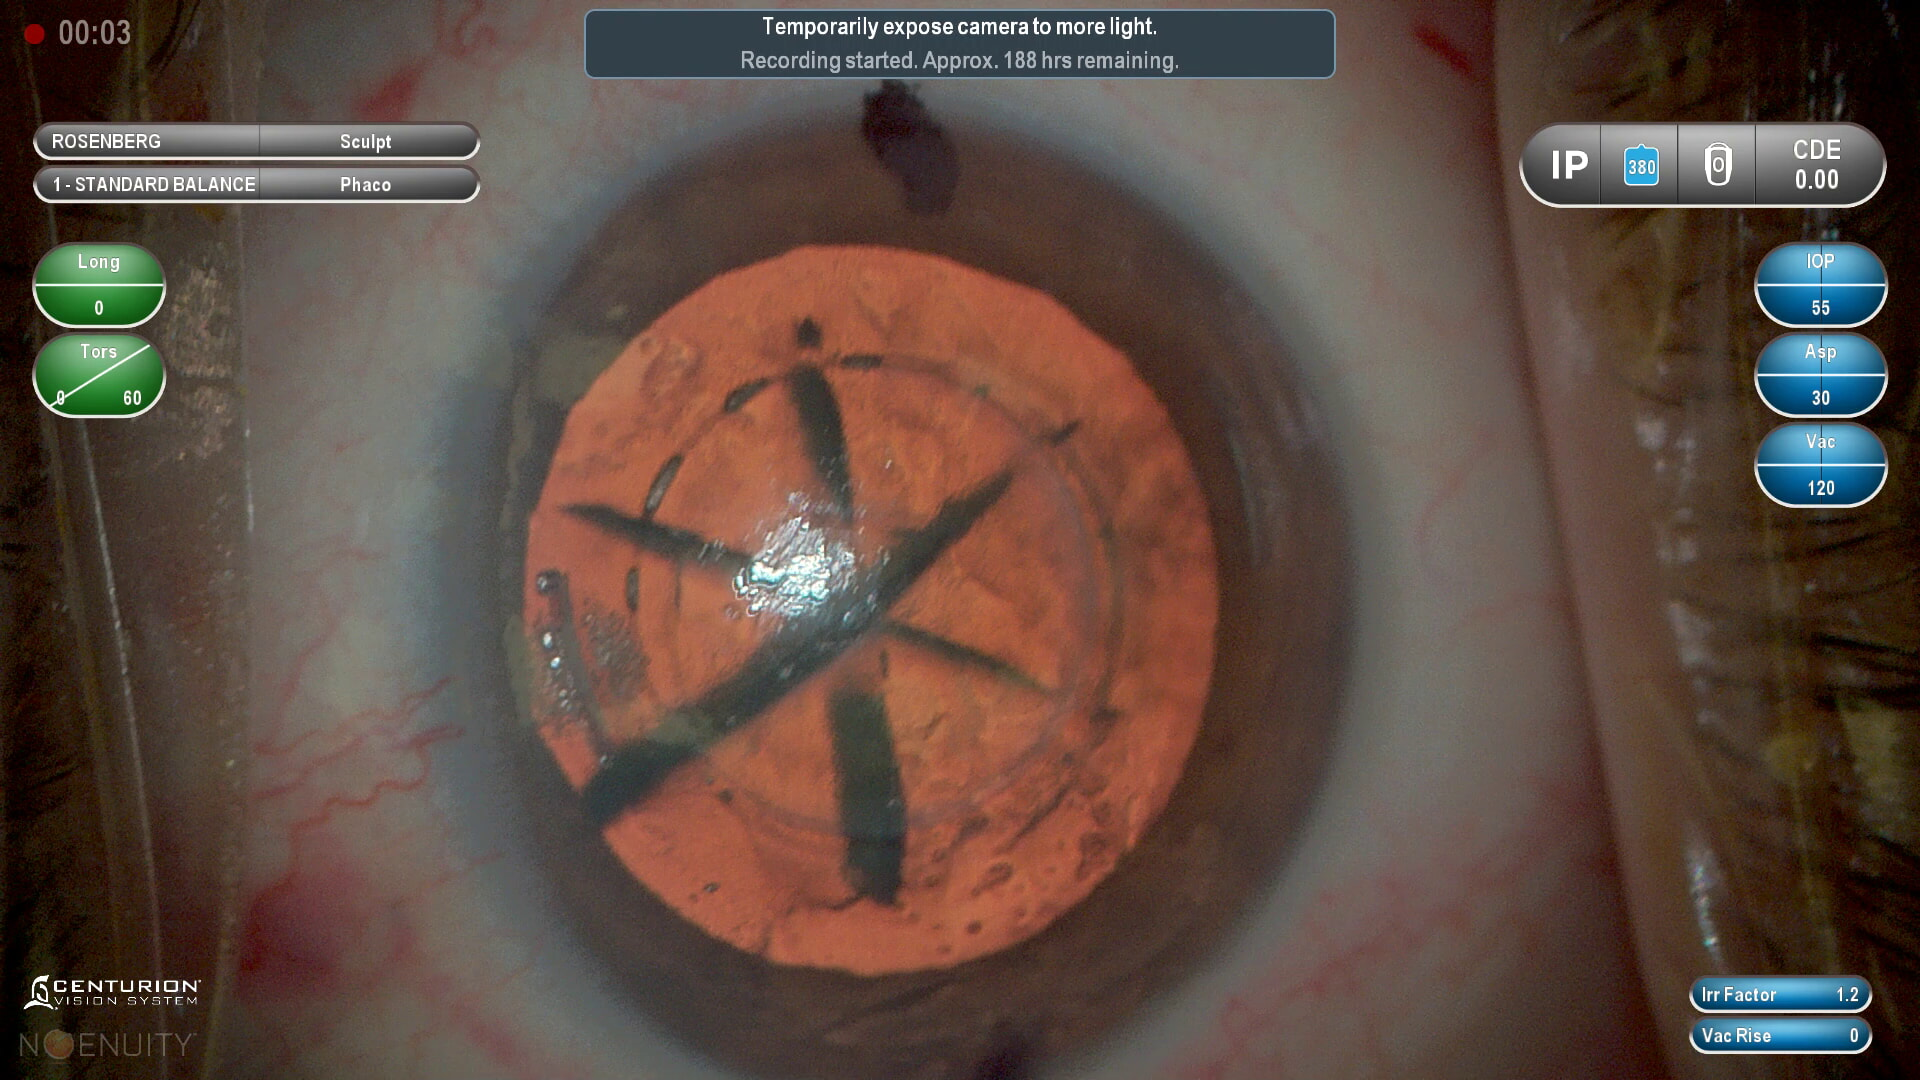iris: (450, 134, 1360, 1080)
pupil: (498, 244, 1230, 965)
